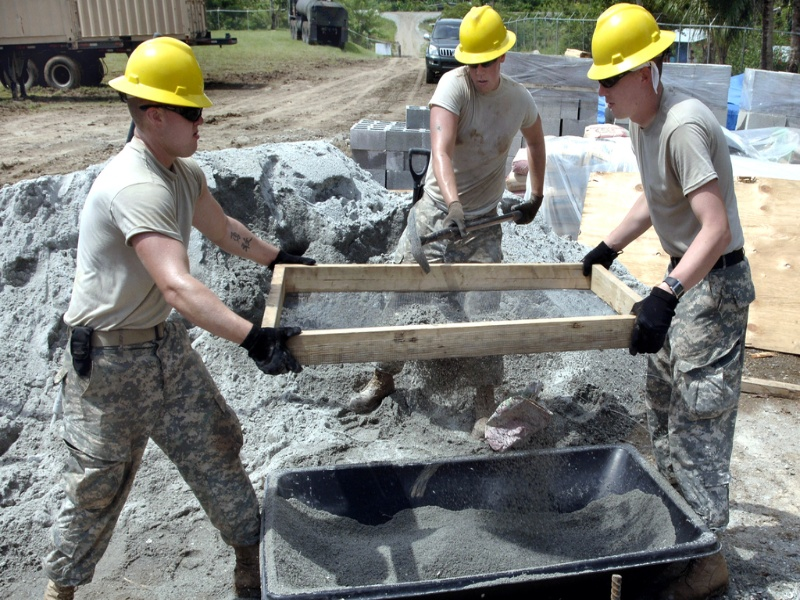Baret: (109, 34, 214, 109), (587, 3, 679, 84), (455, 5, 518, 63)
